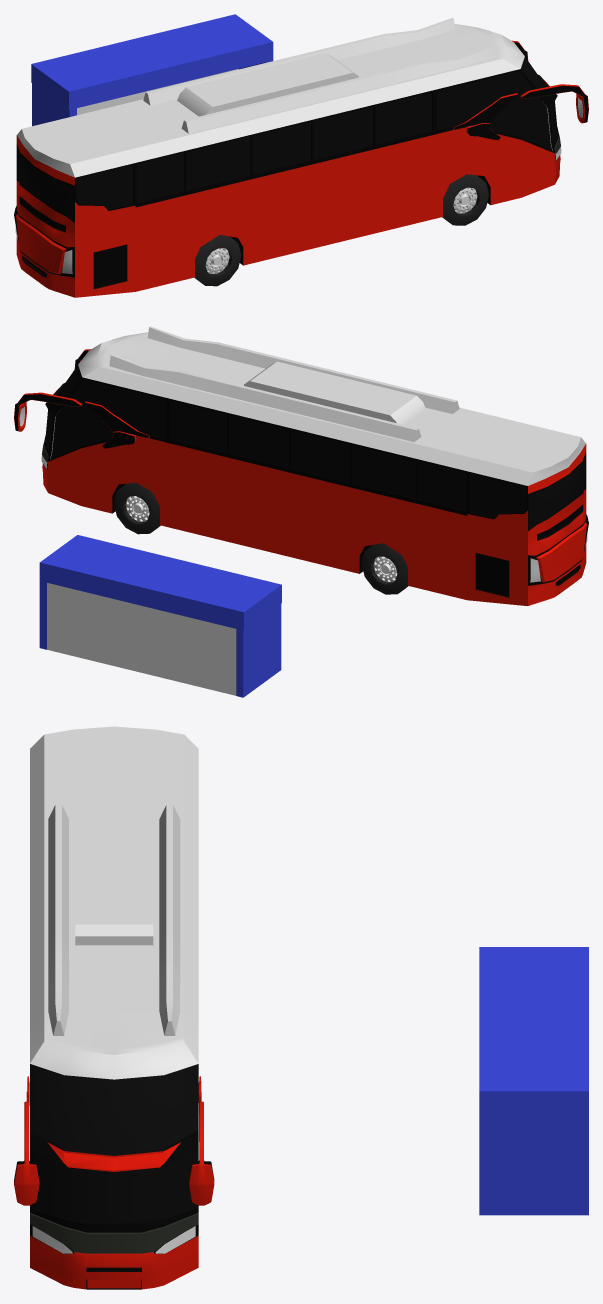
The model's file is BusModel1.gltf.
3 renders of one model, top to bottom at view 1: azimuth 30°, elevation 25°; view 2: azimuth 150°, elevation 25°; view 3: azimuth 270°, elevation 25°, orthographic. The views are drawn at different scales.
Parts seen in each view (by area): view 1: body_bus, Cube.002; view 2: body_bus, Cube.002; view 3: body_bus, Cube.002.
Part boxes in pixels (bbox=[...]): body_bus: bbox=[14, 18, 588, 297]; Cube.002: bbox=[31, 14, 273, 126]; body_bus: bbox=[14, 326, 588, 605]; Cube.002: bbox=[39, 535, 281, 697]; body_bus: bbox=[14, 726, 214, 1289]; Cube.002: bbox=[479, 947, 588, 1215].
Bounding box in the file's own units: 15.95 × 5 × 10.5.
